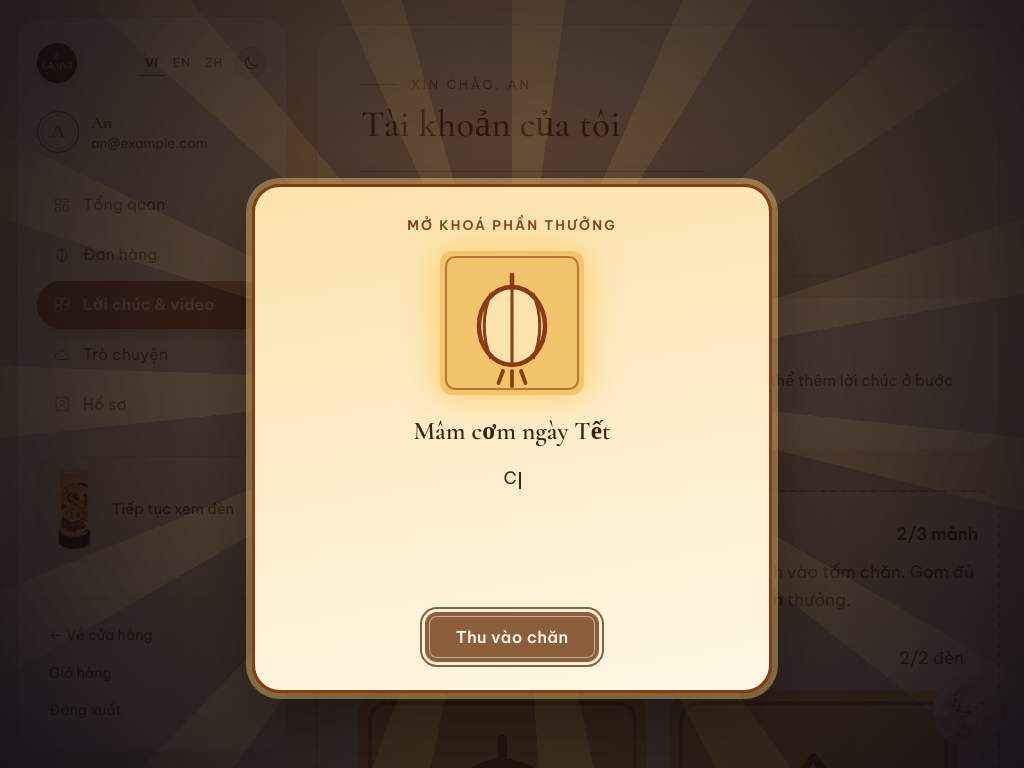
Test: Quilt: localStorage lỗi › getItem/setItem của khoá seen ném lỗi: trang vẫn render, phần thưởng vẫn mở và đóng được
The image size is (1024, 768).
Click the button "Thu vào chăn".
click(512, 638)  # box [425, 612, 599, 662]
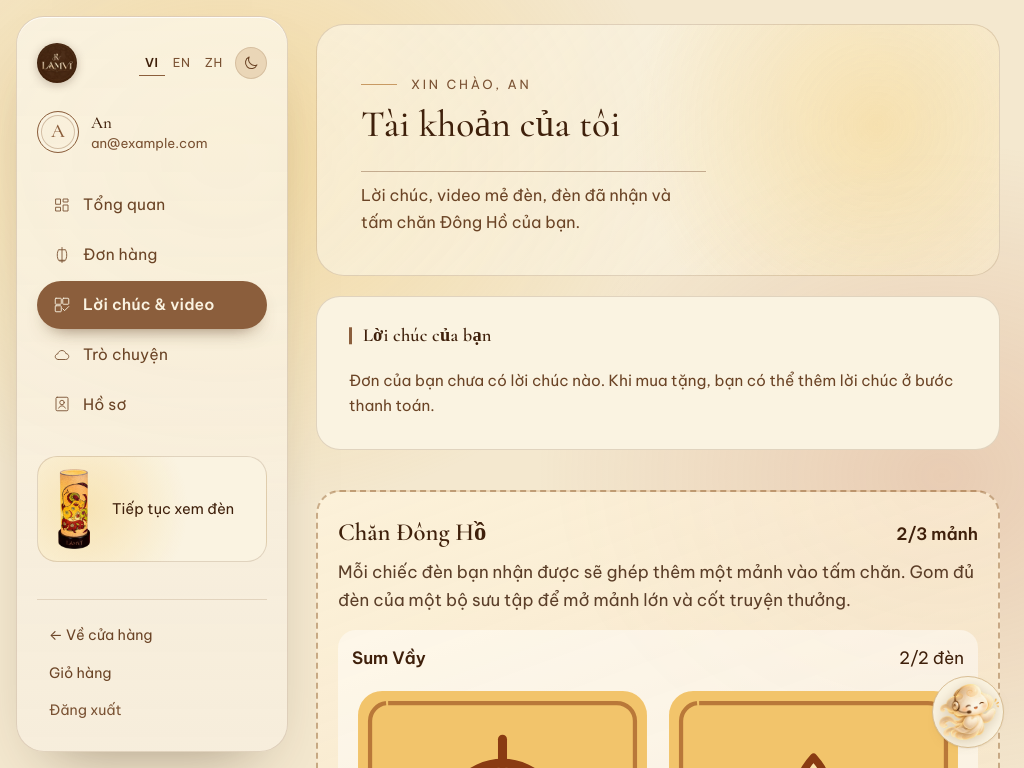
Expected: the heading "Chăn Đông Hồ" is shown, [338, 512, 486, 552]
Expected: the dialog is gone
